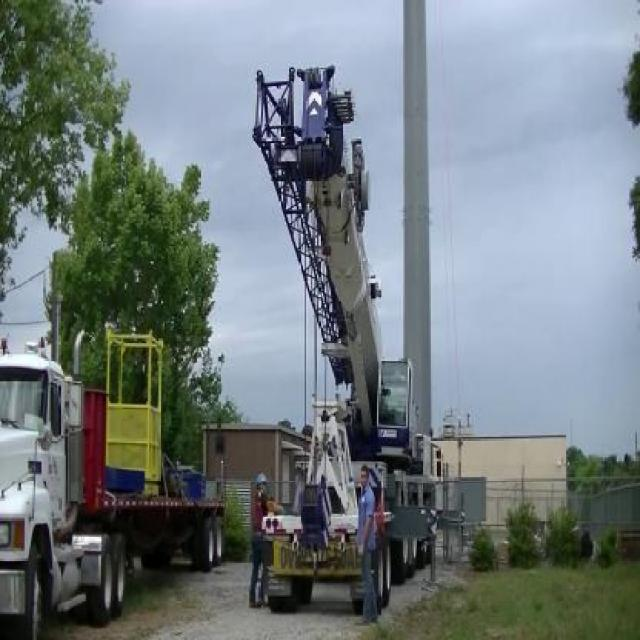Mobile Crane: (258, 60, 438, 611)
